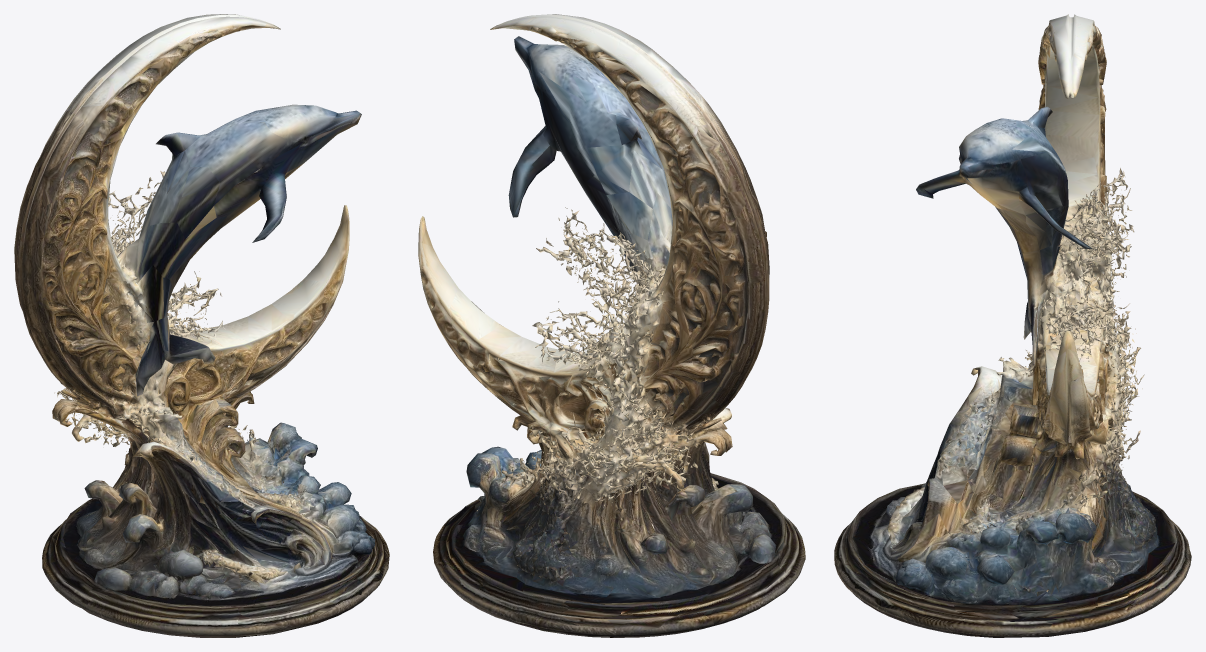
File: Golden_Crescent_Dolph.glb
3 renders of one model, left to right at view 1: azimuth 30°, elevation 25°; view 2: azimuth 150°, elevation 25°; view 3: azimuth 270°, elevation 25°, orthographic. The views are drawn at different scales.
Parts seen in each view (by area): view 1: Golden_Crescent_Dolph; view 2: Golden_Crescent_Dolph; view 3: Golden_Crescent_Dolph.
Boxes of the visible parts, <box> form: Golden_Crescent_Dolph: <box>14,14,389,637</box>; Golden_Crescent_Dolph: <box>418,14,805,637</box>; Golden_Crescent_Dolph: <box>834,14,1191,637</box>.
Bounding box in the file's own units: 1.23 × 1.9 × 1.13.
1 material, 1 textured.
